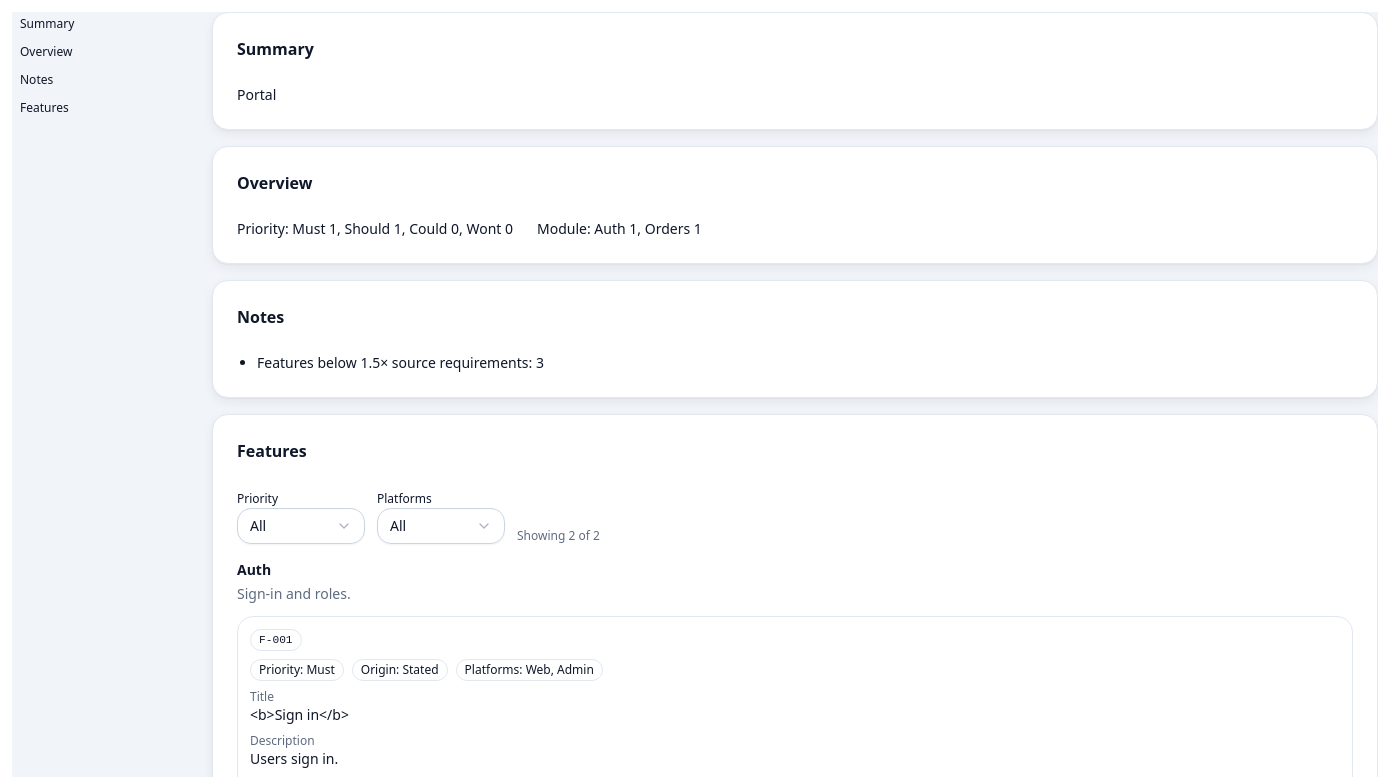
Feature list viewer › filters by priority
The width and height of the screenshot is (1378, 777).
Click the dropdown named "Priority" at (301, 526), box left=237, top=508, right=365, bottom=544
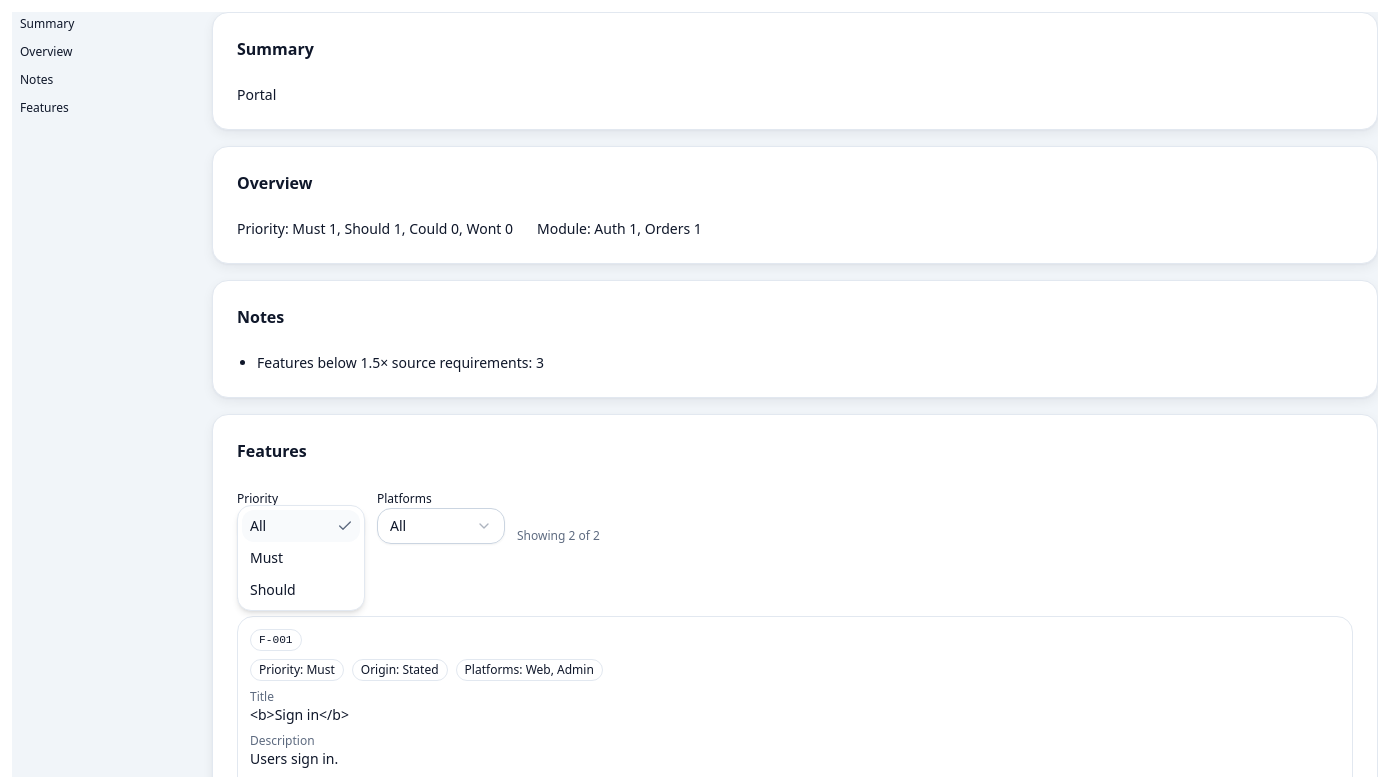
Click the option "Must" at (267, 558), box left=250, top=548, right=283, bottom=567
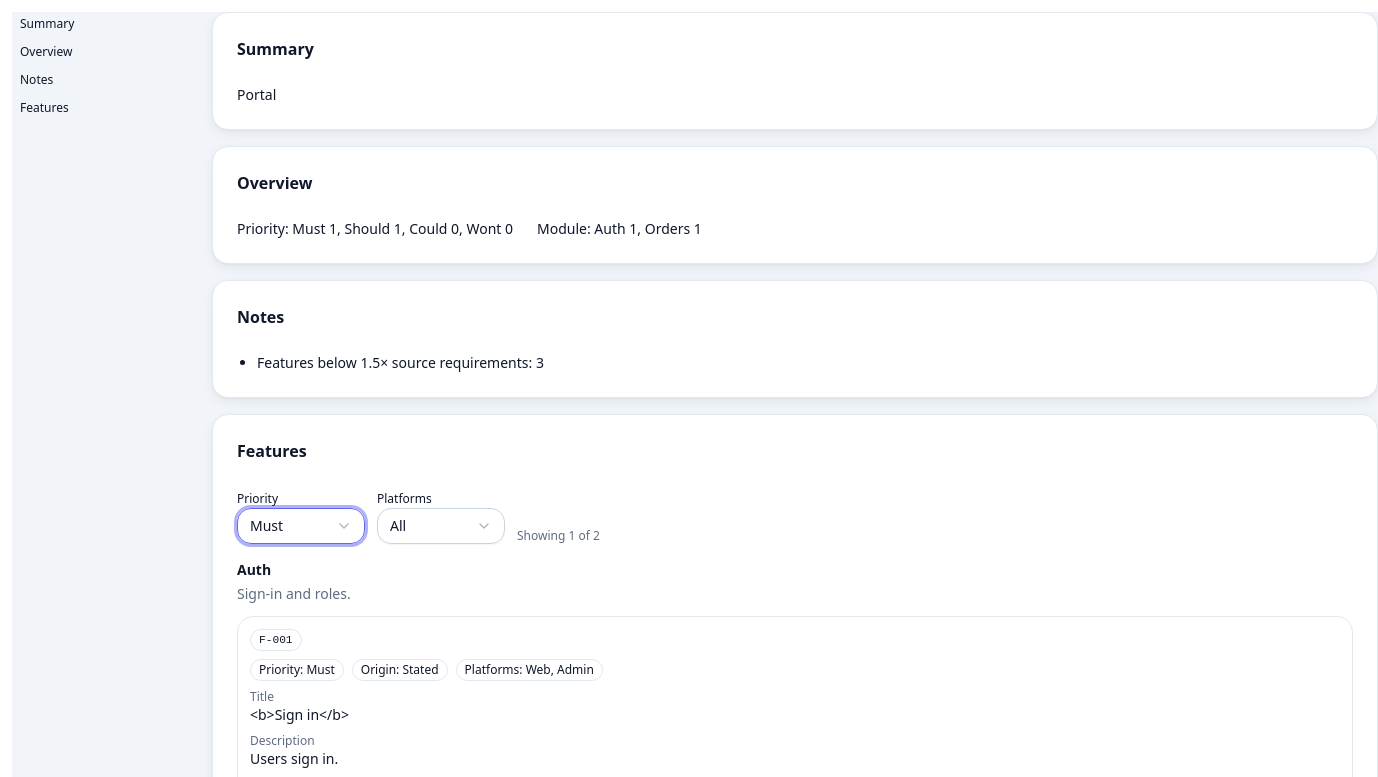
Expected: the text "<b>Sign in</b>" is shown, left=250, top=705, right=349, bottom=724
Expected: the text "Showing 1 of 2" is shown, left=517, top=528, right=600, bottom=544
